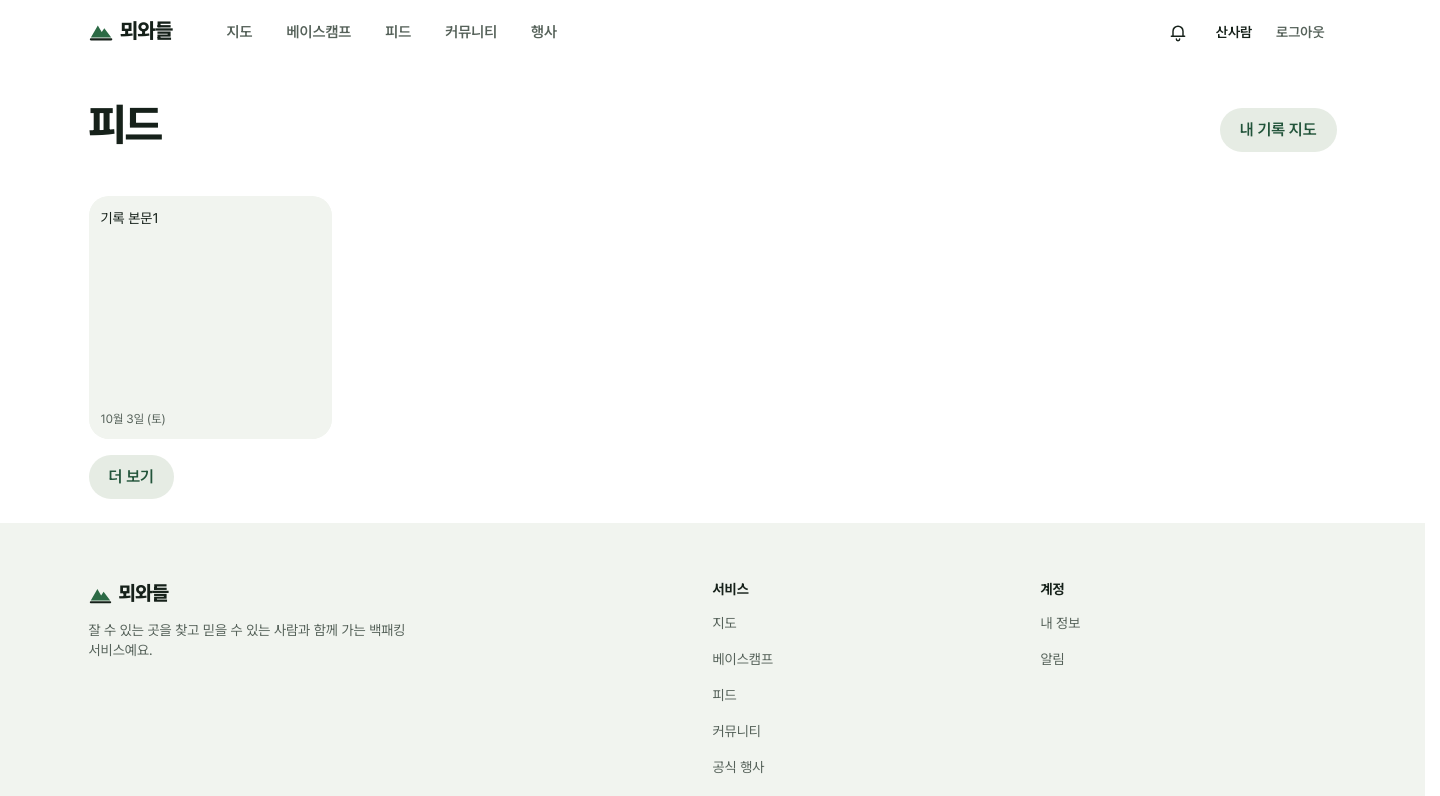
Scenario: 기록 피드 화면 › 더 보기가 실패하면 받아 둔 기록은 그대로 두고 오류 문구를 보여 준다
Click the button "더 보기" at (131, 477), box [88, 455, 174, 499]
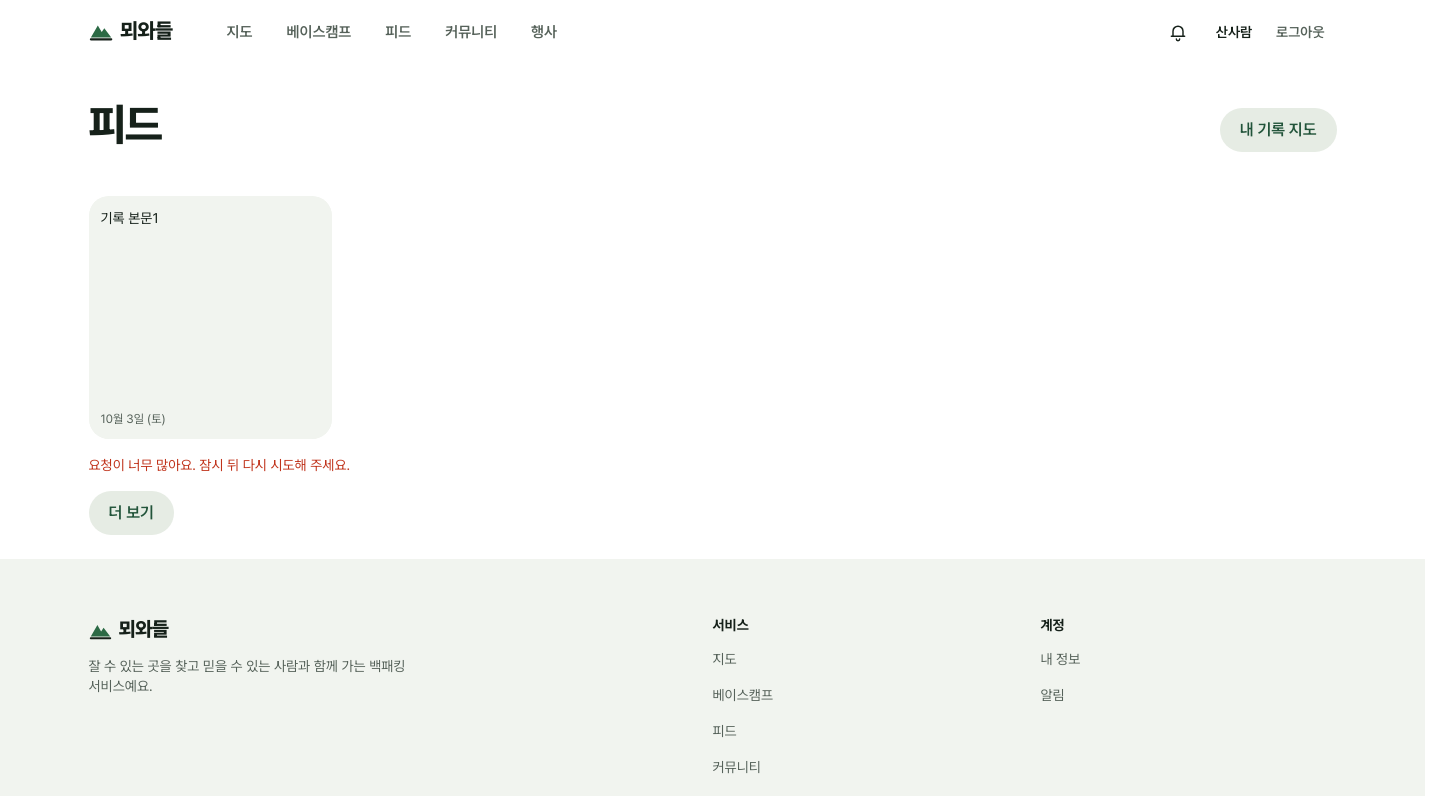
Check: the button "더 보기" is shown, box [88, 491, 174, 535]
Check: the message "요청이 너무 많아요. 잠시 뒤 다시 시도해 주세요." is shown, box [88, 457, 350, 473]
